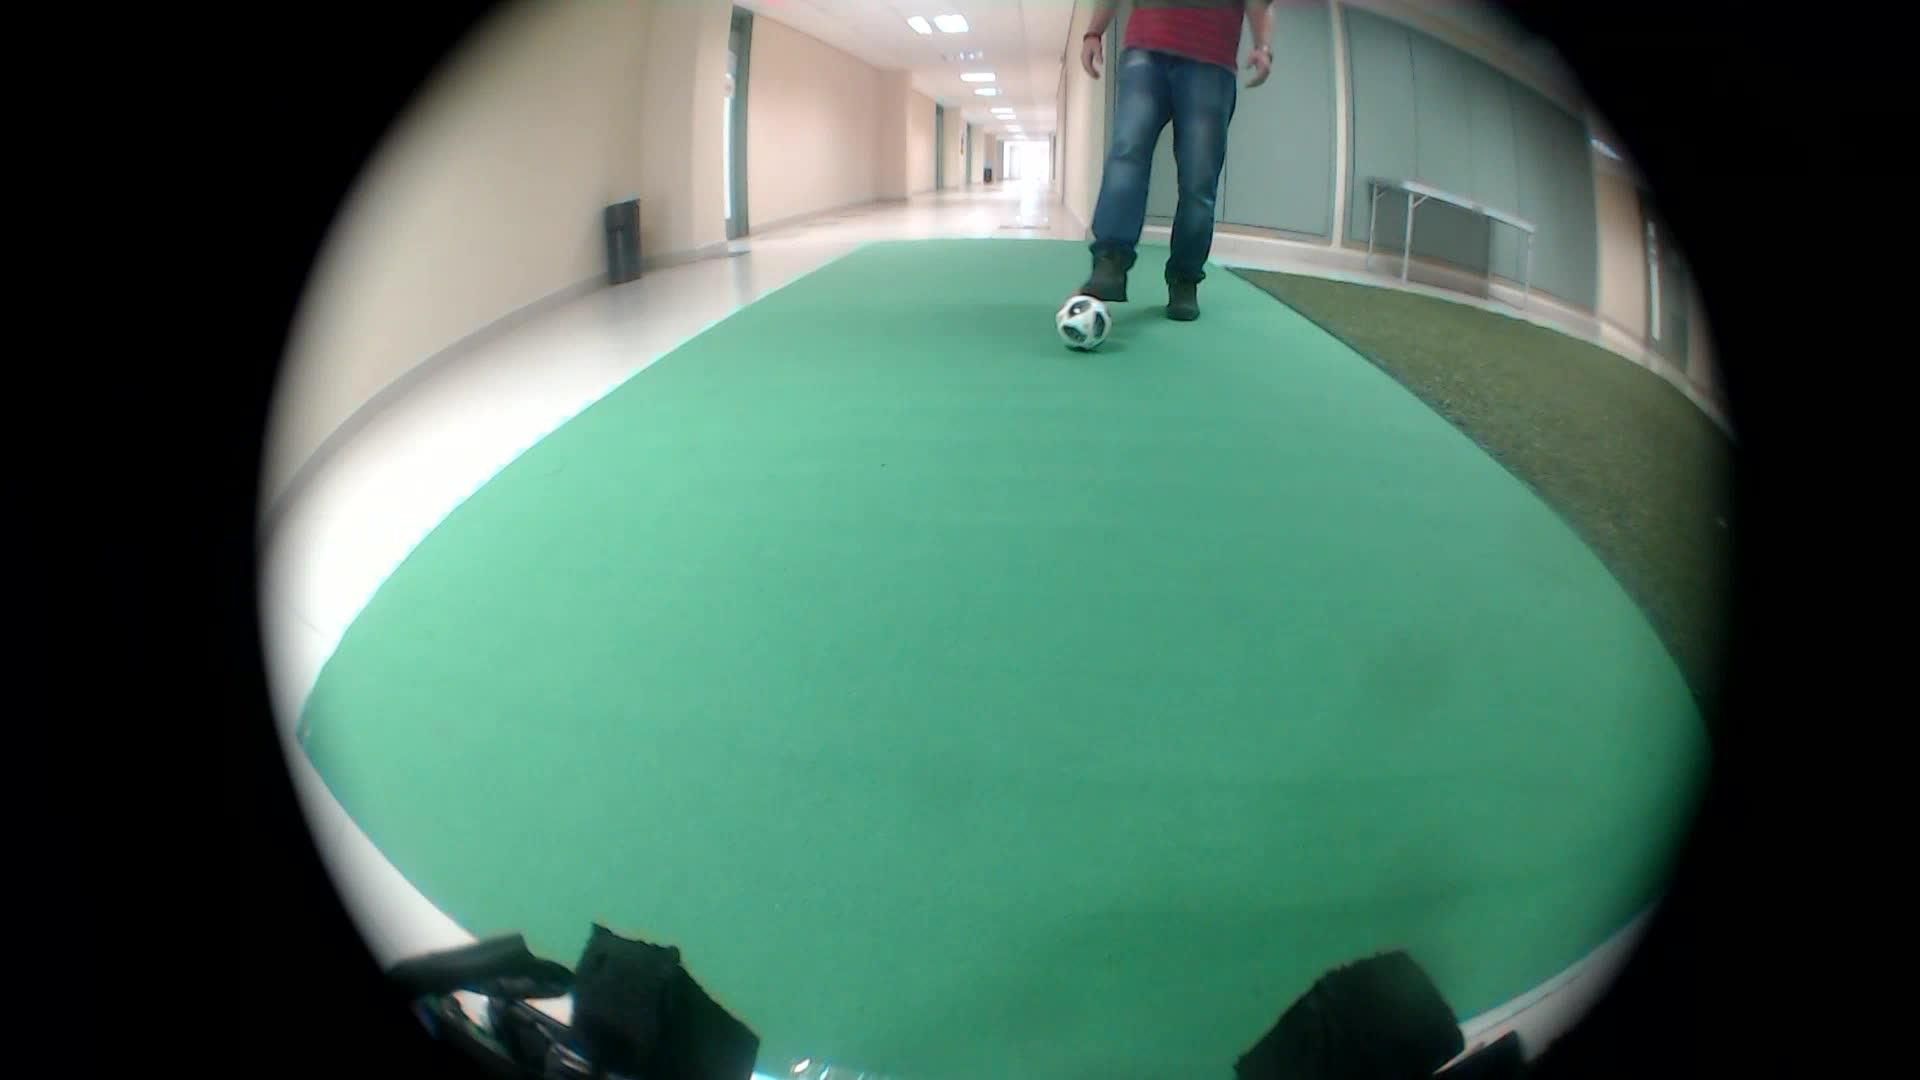ball: (1054, 291, 1122, 361)
